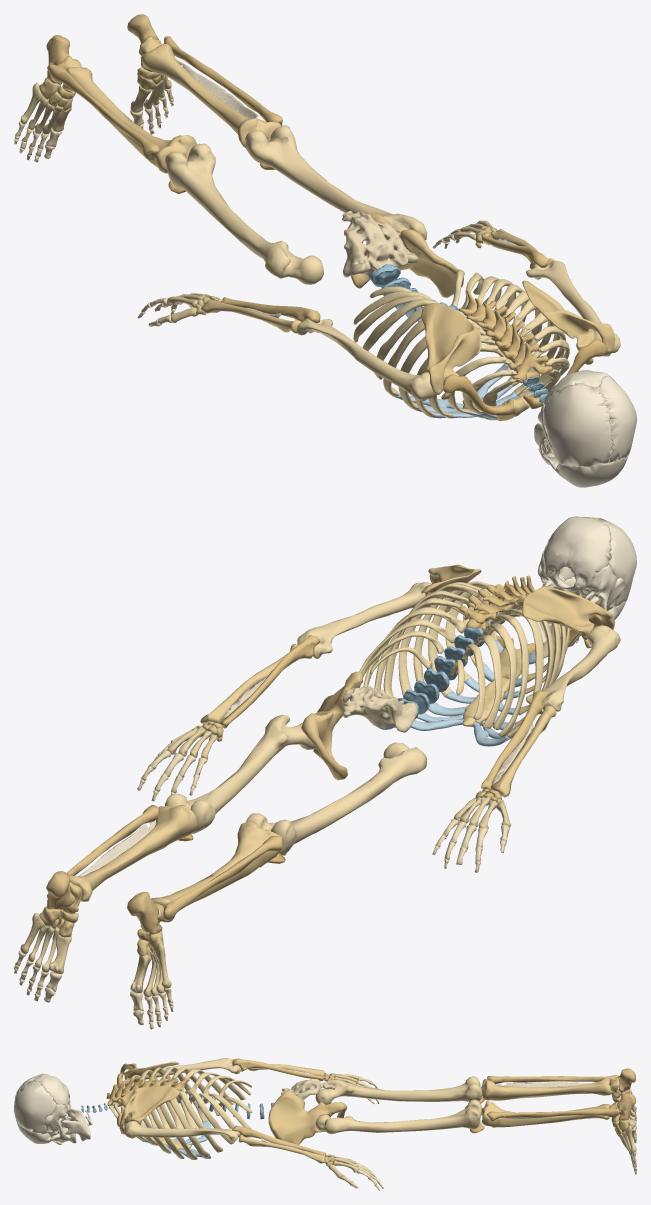
The model's file is skeleton.glb.
3 views of the same model, one above another, from view 1: azimuth 30°, elevation 25°; view 2: azimuth 150°, elevation 25°; view 3: azimuth 270°, elevation 25° (orthographic). The views are drawn at different scales.
Visible parts, largest first — view 1: Қабырғалар, Ортан жілік, Бас сүйек, Жауырын, Асықты жілік, Тоқпан жілік, Сегізкөз, Кеуде омыртқалары, Шыбық сүйек, Жамбас сүйегі, Табан сүйектері, Бұғана (+10 smaller); view 2: Қабырғалар, Ортан жілік, Бас сүйек, Асықты жілік, Тоқпан жілік, Жауырын, Табан сүйектері, Қол саусақтарының сүйектері, Шыбық сүйек, Қабырға шеміршектері, Шынтақ сүйек, Омыртқааралық дискілер (+10 smaller); view 3: Қабырғалар, Ортан жілік, Бас сүйек, Асықты жілік, Жамбас сүйегі, Жауырын, Тоқпан жілік, Шыбық сүйек, Шынтақ сүйек, Кәрі жілік, Кеуде омыртқалары, Басқа сүйектер (+11 smaller).
Boxes of the visible parts, x1,y1,x2,y2 form: Қабырғалар: (353,269,569,418); Ортан жілік: (165,125,427,284); Бас сүйек: (538,370,636,487); Жауырын: (421,280,615,399); Асықты жілік: (63,43,280,173); Тоқпан жілік: (296,259,620,401); Сегізкөз: (342,211,419,278); Кеуде омыртқалары: (458,290,552,382); Шыбық сүйек: (48,36,282,160); Жамбас сүйегі: (351,213,463,297); Табан сүйектері: (20,75,171,134); Бұғана: (443,339,607,415); Қабырғалар: (359,581,569,738); Ортан жілік: (165,714,426,855); Бас сүйек: (537,516,636,643); Асықты жілік: (70,805,279,922); Тоқпан жілік: (297,582,620,711); Жауырын: (421,564,615,648); Табан сүйектері: (20,913,171,997); Қол саусақтарының сүйектері: (137,743,509,872); Шыбық сүйек: (48,805,282,920); Қабырға шеміршектері: (410,640,544,746); Шынтақ сүйек: (219,635,548,789); Омыртқааралық дискілер: (377,600,521,729); Қабырғалар: (109,1067,252,1159); Ортан жілік: (315,1076,482,1134); Бас сүйек: (14,1073,92,1144); Асықты жілік: (481,1077,612,1127); Жамбас сүйегі: (268,1090,347,1144); Жауырын: (119,1061,179,1129); Тоқпан жілік: (124,1058,240,1141); Шыбық сүйек: (487,1075,619,1121); Шынтақ сүйек: (232,1058,325,1154); Кәрі жілік: (238,1064,325,1163); Кеуде омыртқалары: (106,1076,189,1107); Басқа сүйектер: (70,1069,592,1151).
Bounding box in the file's own units: 648 × 242 × 1643.
